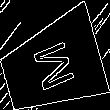M_W: (27, 36, 77, 95)
